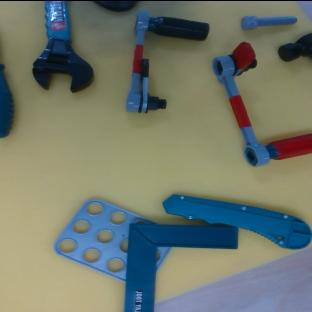non_pass: (125, 10, 210, 119)
